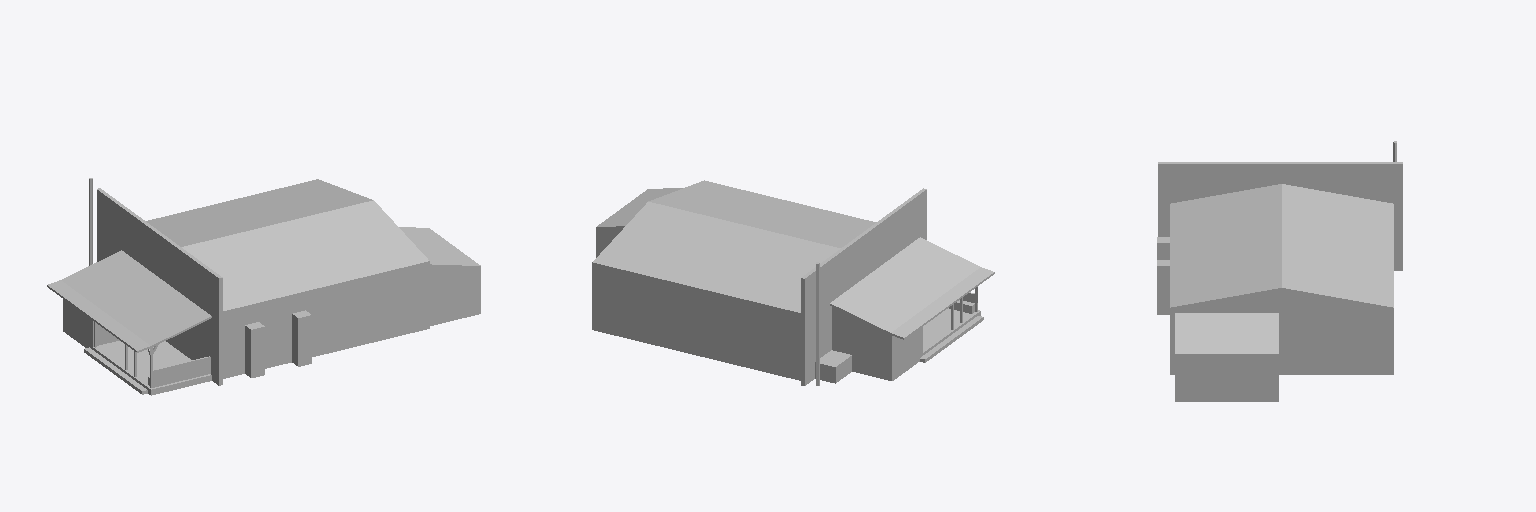
The model's file is ProspectorSaloonLOD.obj.
3 renders of one model, left to right at view 1: azimuth 30°, elevation 25°; view 2: azimuth 150°, elevation 25°; view 3: azimuth 270°, elevation 25°, orthographic.
Visible parts, largest first — view 1: collision, collisionShapeHiddenFacesSet defaultHideFaceDataSet collision; view 2: collision, collisionShapeHiddenFacesSet defaultHideFaceDataSet collision; view 3: collision, collisionShapeHiddenFacesSet defaultHideFaceDataSet collision.
Part boxes in pixels (x1,y1,x2,y2): collision: (47,178,429,395); collisionShapeHiddenFacesSet defaultHideFaceDataSet collision: (399,227,480,325); collision: (592,180,994,385); collisionShapeHiddenFacesSet defaultHideFaceDataSet collision: (596,188,682,257); collision: (1157,141,1402,374); collisionShapeHiddenFacesSet defaultHideFaceDataSet collision: (1175,313,1278,401).
Size of the model in its own units: 1877 by 638 by 1157.